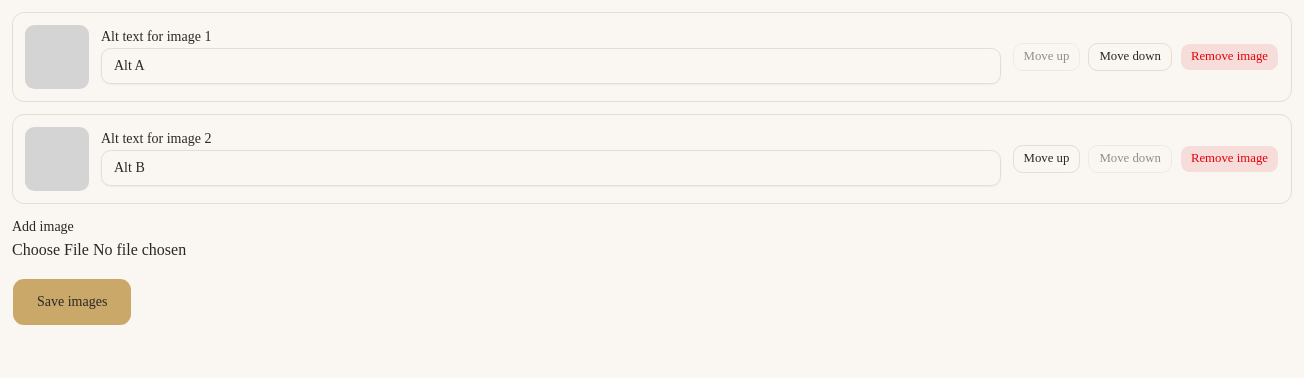
Test: ImageManager › edit mode: a server failure on save shows role=alert and does not refresh
Click the button "Save images". click: [72, 302]
box: left=12, top=278, right=132, bottom=326
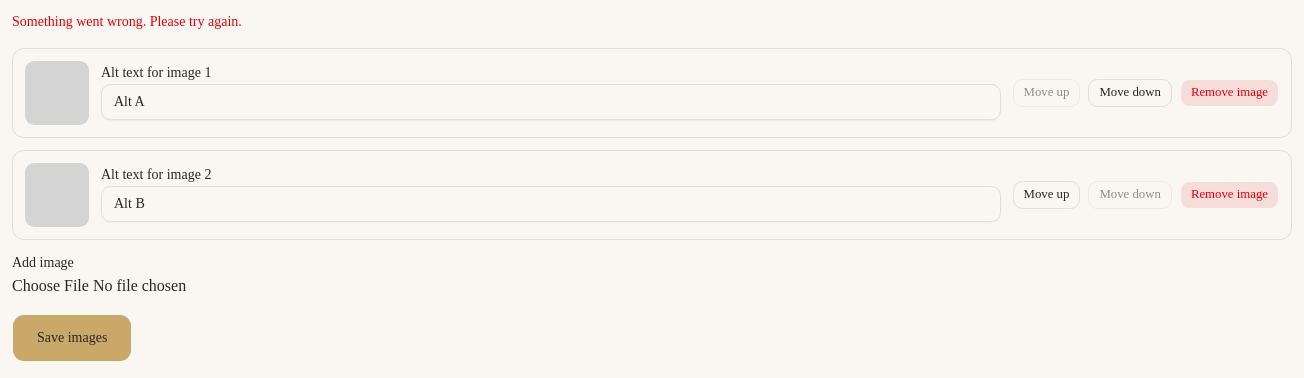
Result: the message "Something went wrong. Please try again." is shown at left=12, top=14, right=242, bottom=29
